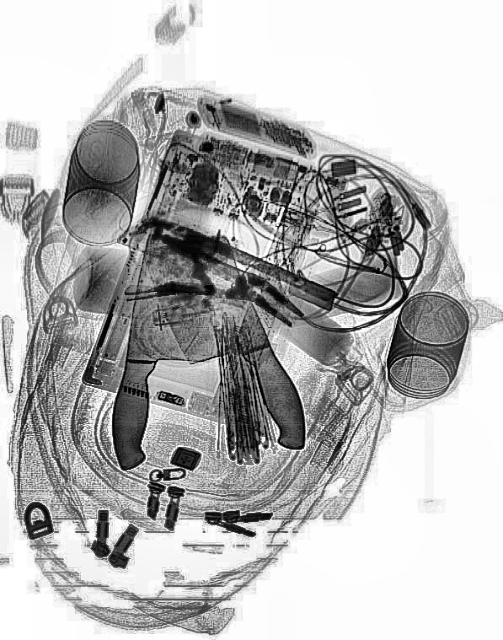Knife: (138, 207, 318, 486), (103, 228, 231, 482)
